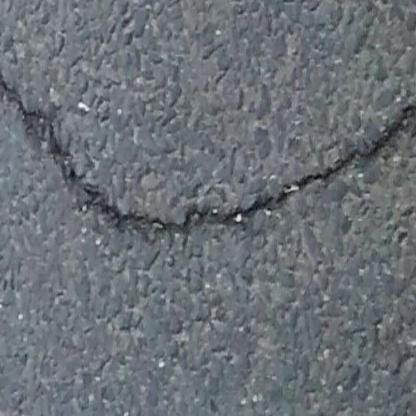Cracks: (0, 49, 416, 240)
